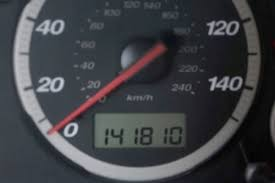Digital_Meter: (93, 118, 199, 149)
